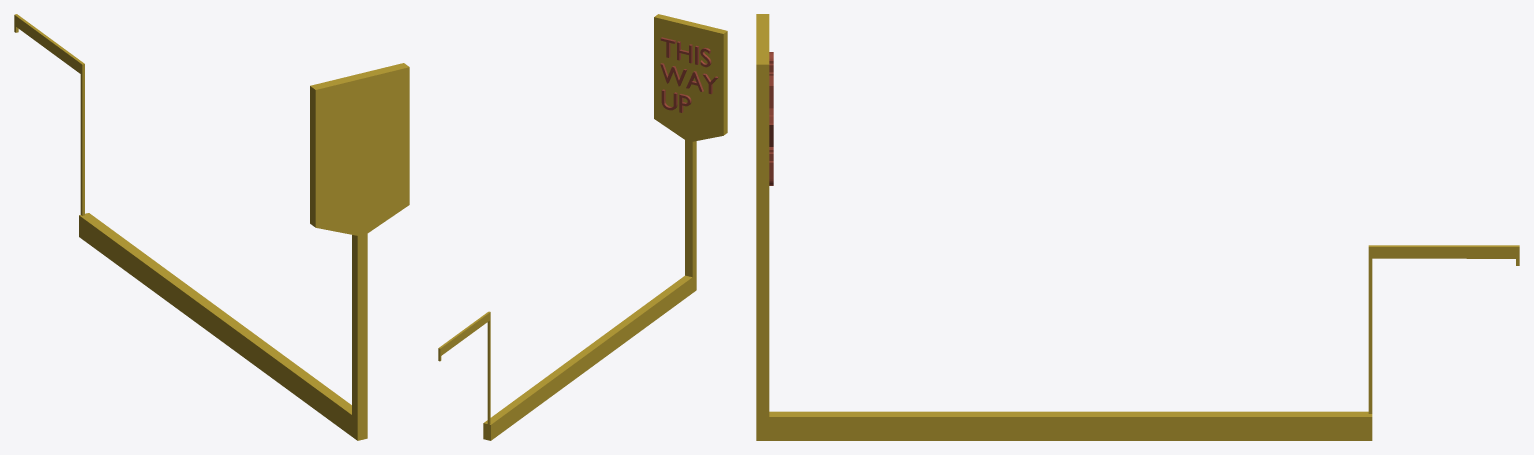
Rendered from rot3_fence.gltf.
3 views of the same model, side by side, from view 1: azimuth 30°, elevation 25°; view 2: azimuth 150°, elevation 25°; view 3: azimuth 270°, elevation 25° (orthographic). The views are drawn at different scales.
Parts seen in each view (by area): view 1: rot3.fence; view 2: rot3.fence; view 3: rot3.fence.
Boxes of the visible parts, x1,y1,x2,y2 form: rot3.fence: [14, 14, 409, 440]; rot3.fence: [438, 14, 727, 440]; rot3.fence: [756, 14, 1519, 440].
Bounding box in the file's own units: 6.84 × 25.13 × 43.57.
